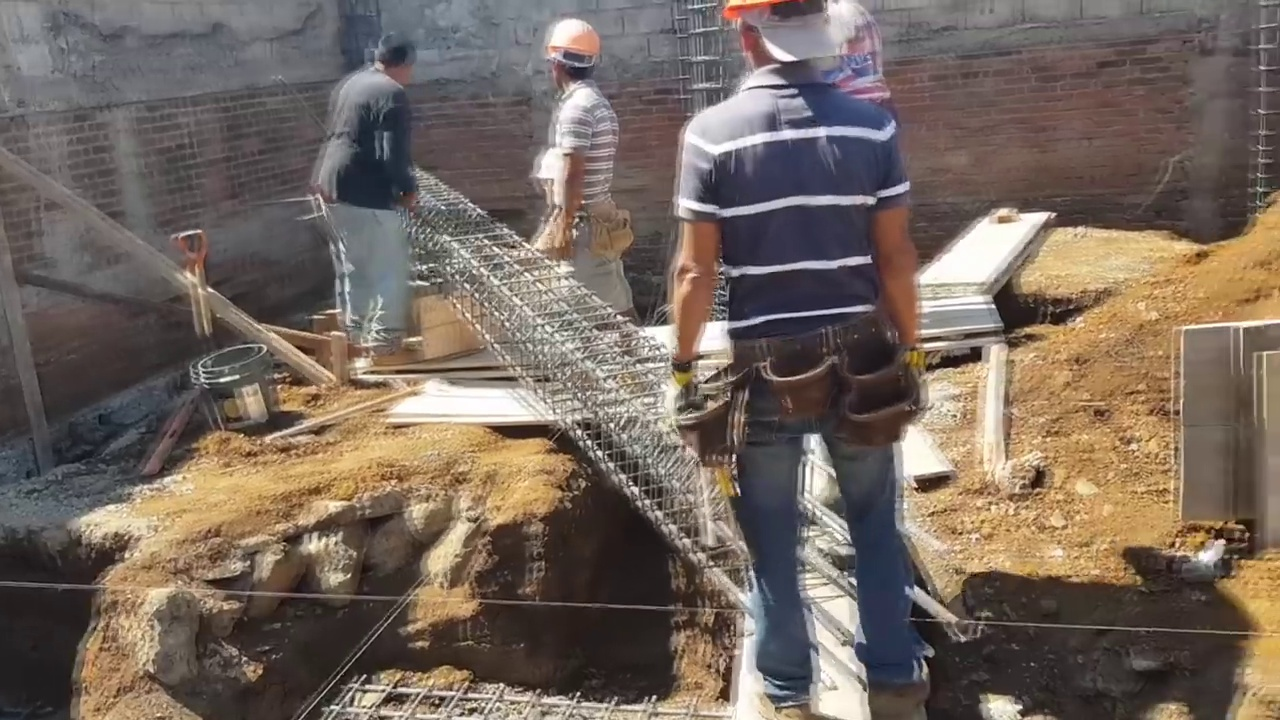helmet: (541, 16, 600, 63)
helmet-off: (736, 4, 839, 80), (371, 28, 416, 83)
helmet-on: (541, 26, 603, 98)
person: (663, 0, 958, 698), (308, 23, 415, 362), (529, 9, 622, 316), (821, 5, 895, 127)
